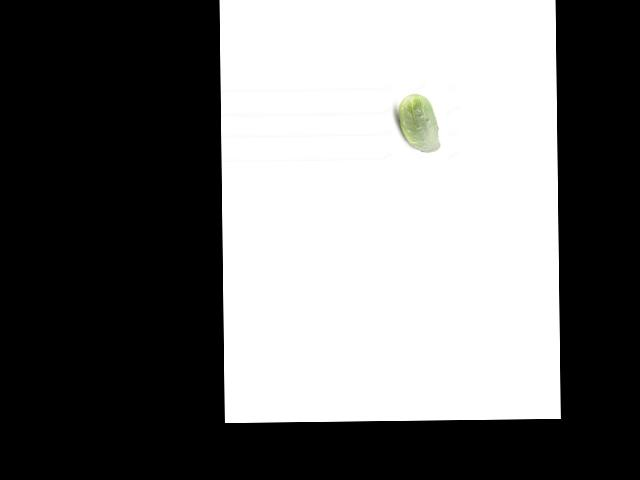cucumber: (397, 93, 440, 153)
